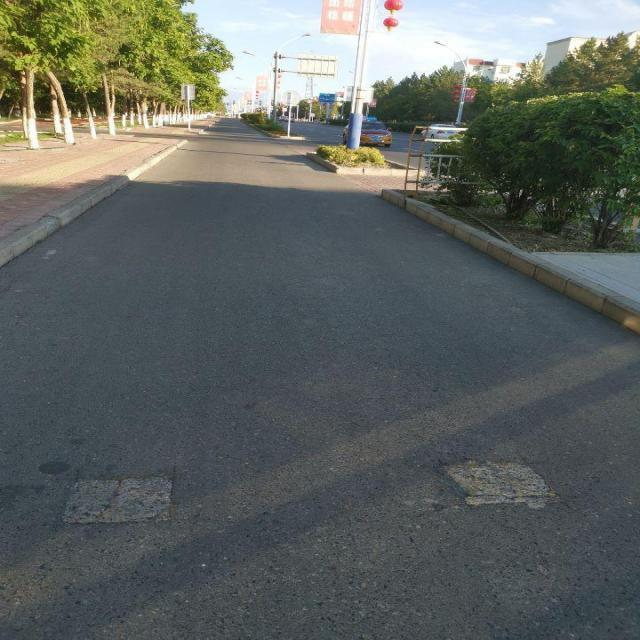Pothole: (439, 460, 558, 509), (61, 475, 173, 522)
